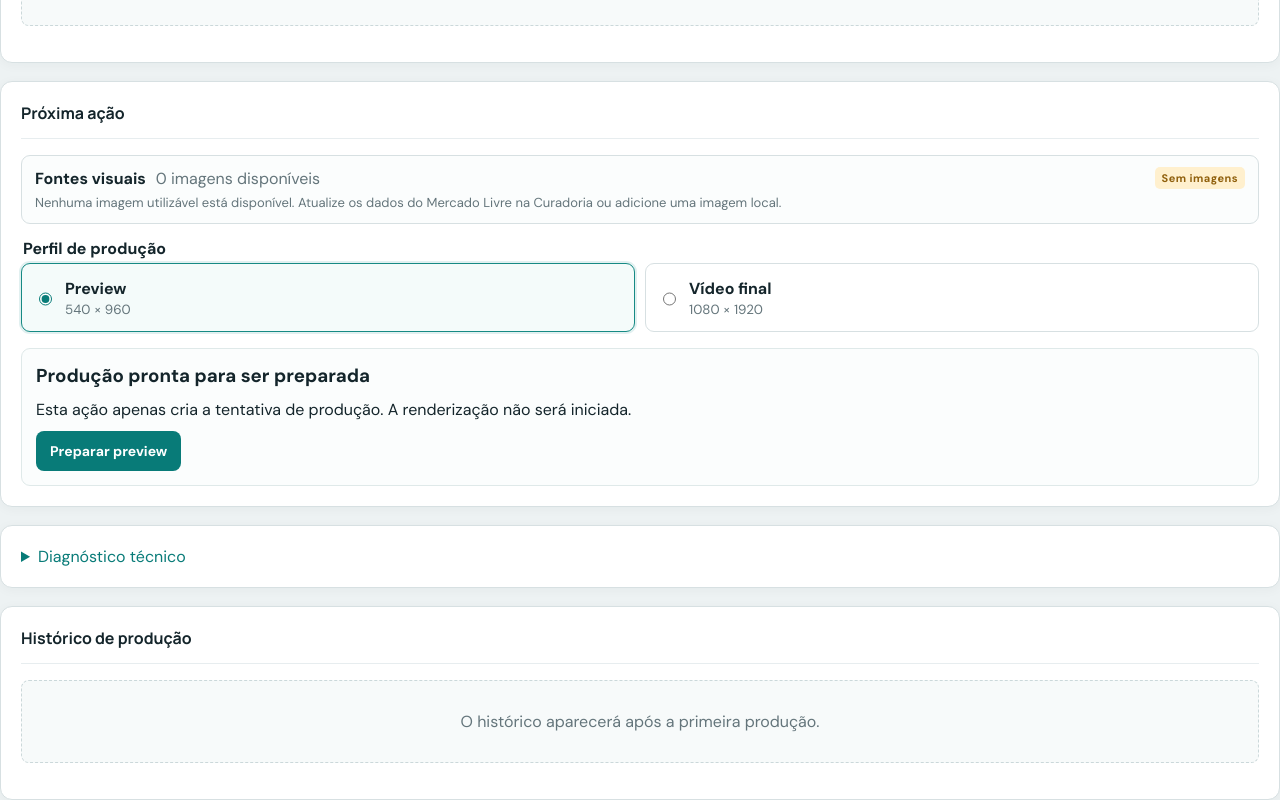
produção de mídia › falha no start mantém QUEUED explicado e permite cancelar
The image size is (1280, 800).
(page scrolled)
Click the button "Preparar preview" at (109, 451), box [36,431,181,471]
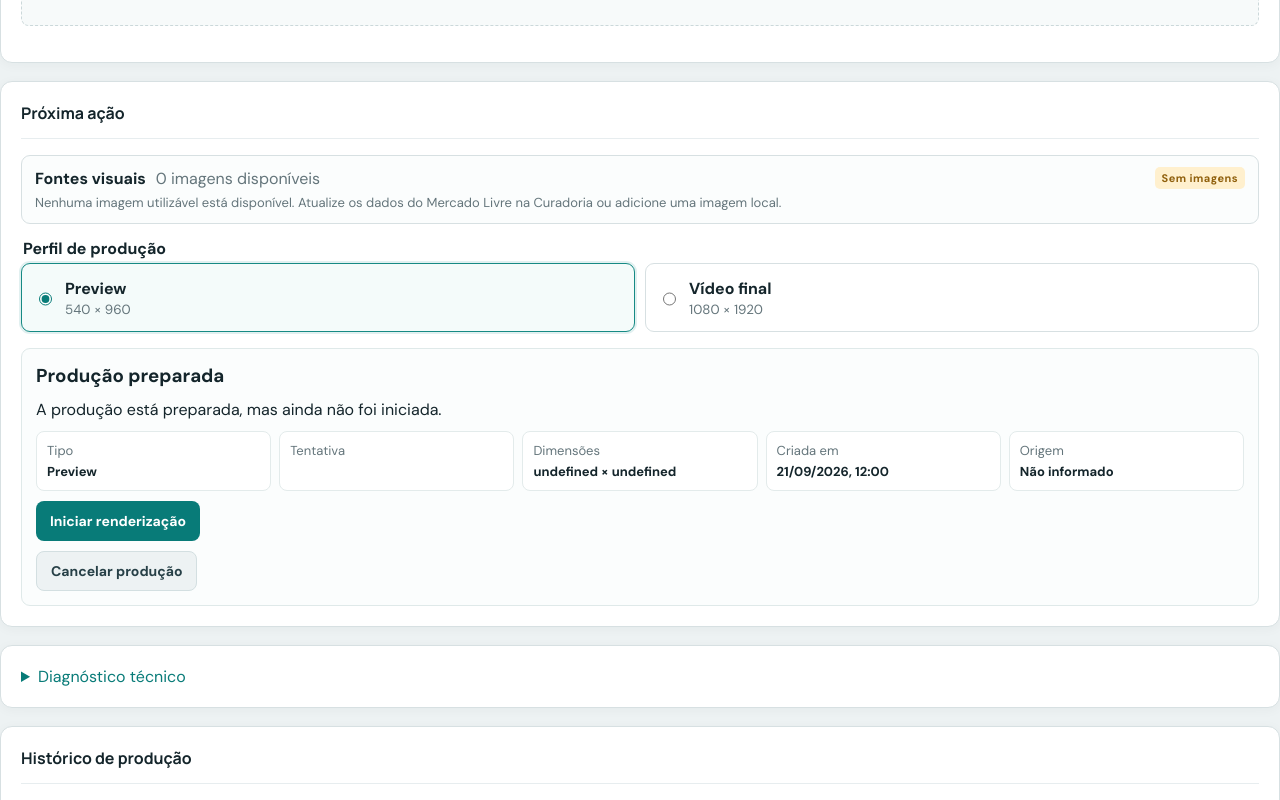
Expected: the heading "Produção preparada" is shown, [36,363,224,388]
Click the button "Iniciar renderização" at (118, 521), box [36,501,200,541]
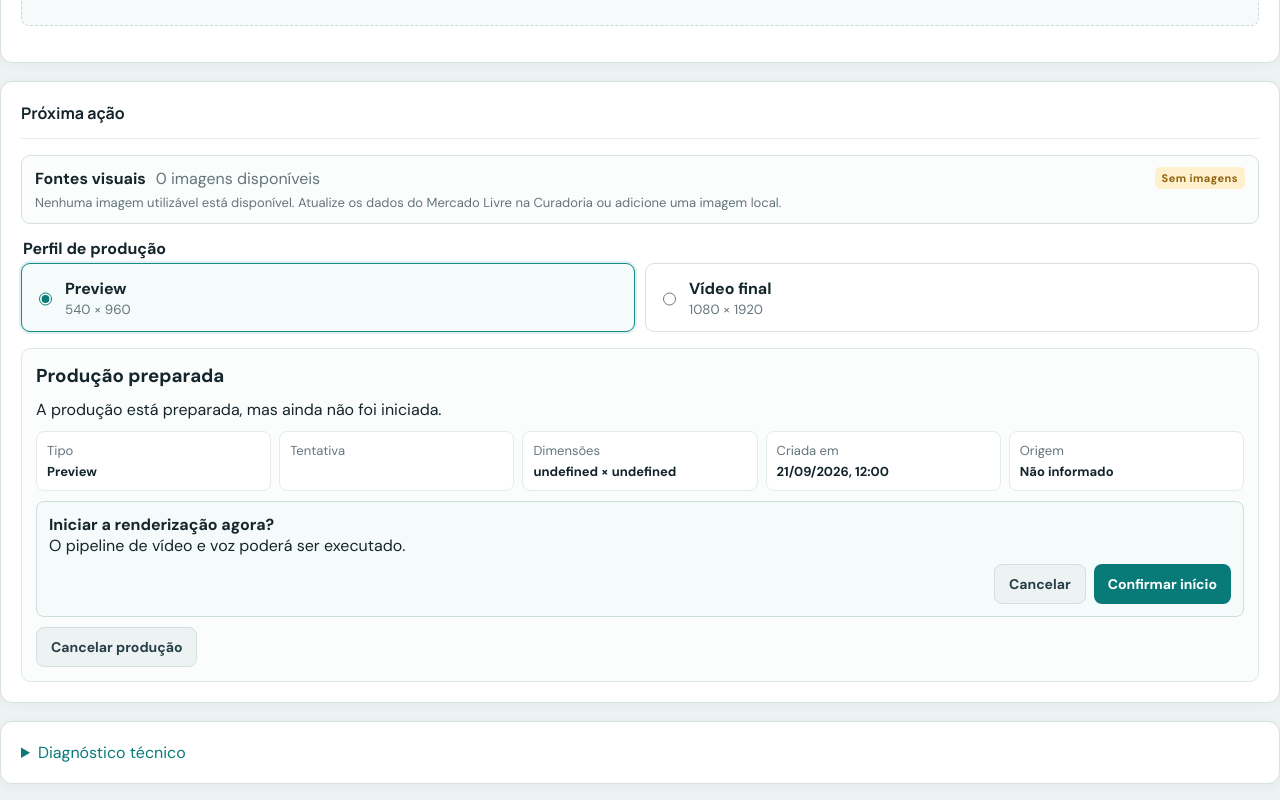
Click the button "Confirmar início" at (1162, 584), box [1094,564,1231,604]
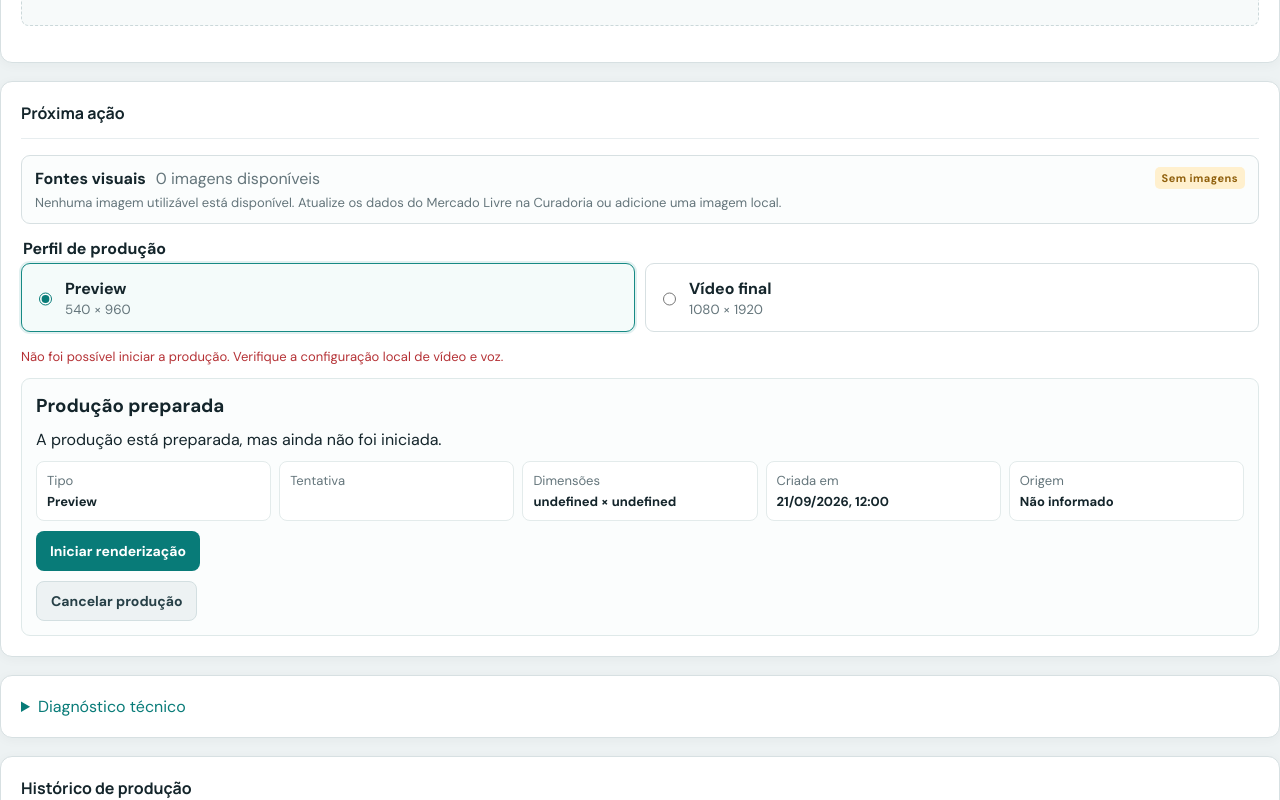
Expected: the heading "Produção preparada" is shown, [36,393,224,418]
Expected: the message shows "Não foi possível iniciar a produção. Verifique a configuração local de vídeo e voz.", [21,348,503,365]
Click the button "Cancelar produção" at (117, 601), box [36,581,197,621]
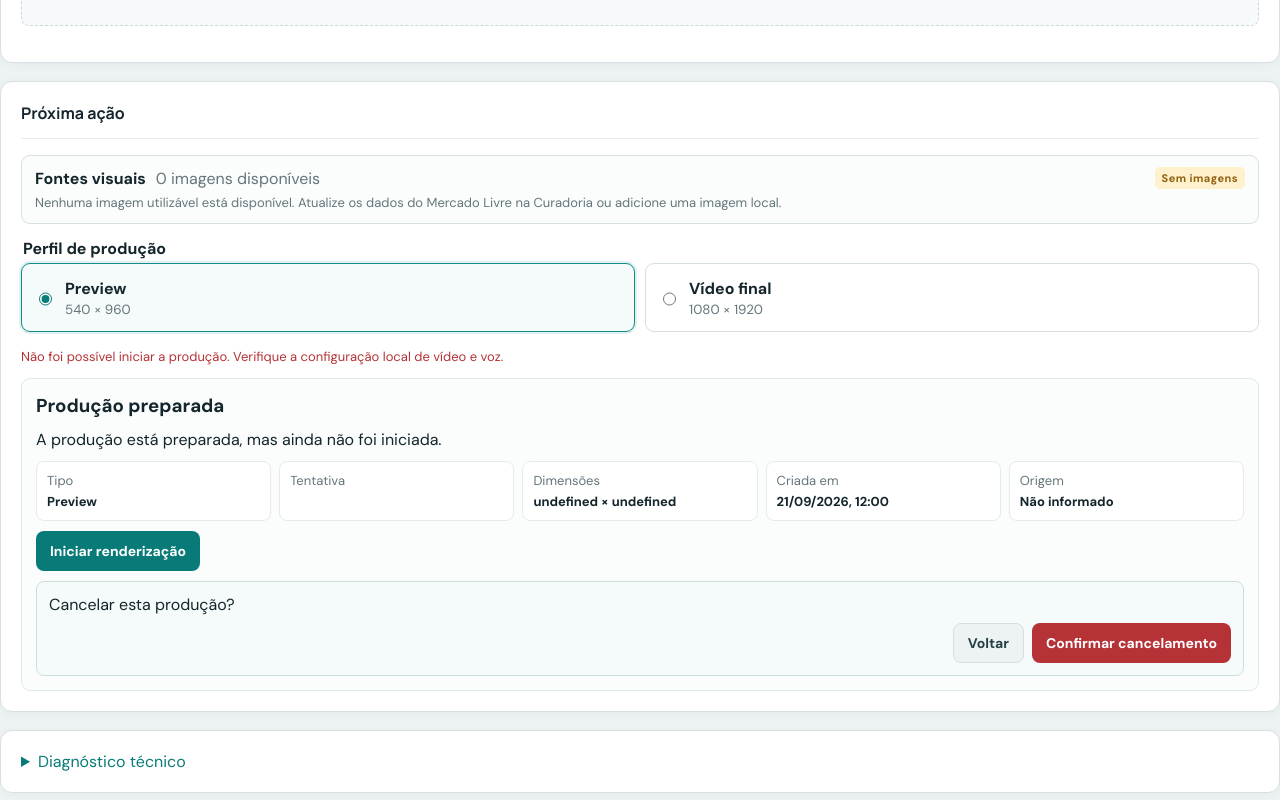
Expected: the element named "Confirmar cancelamento da produção" is shown, [36,581,1244,676]
Click the button "Confirmar cancelamento" at (1132, 643), box [1032,623,1231,663]
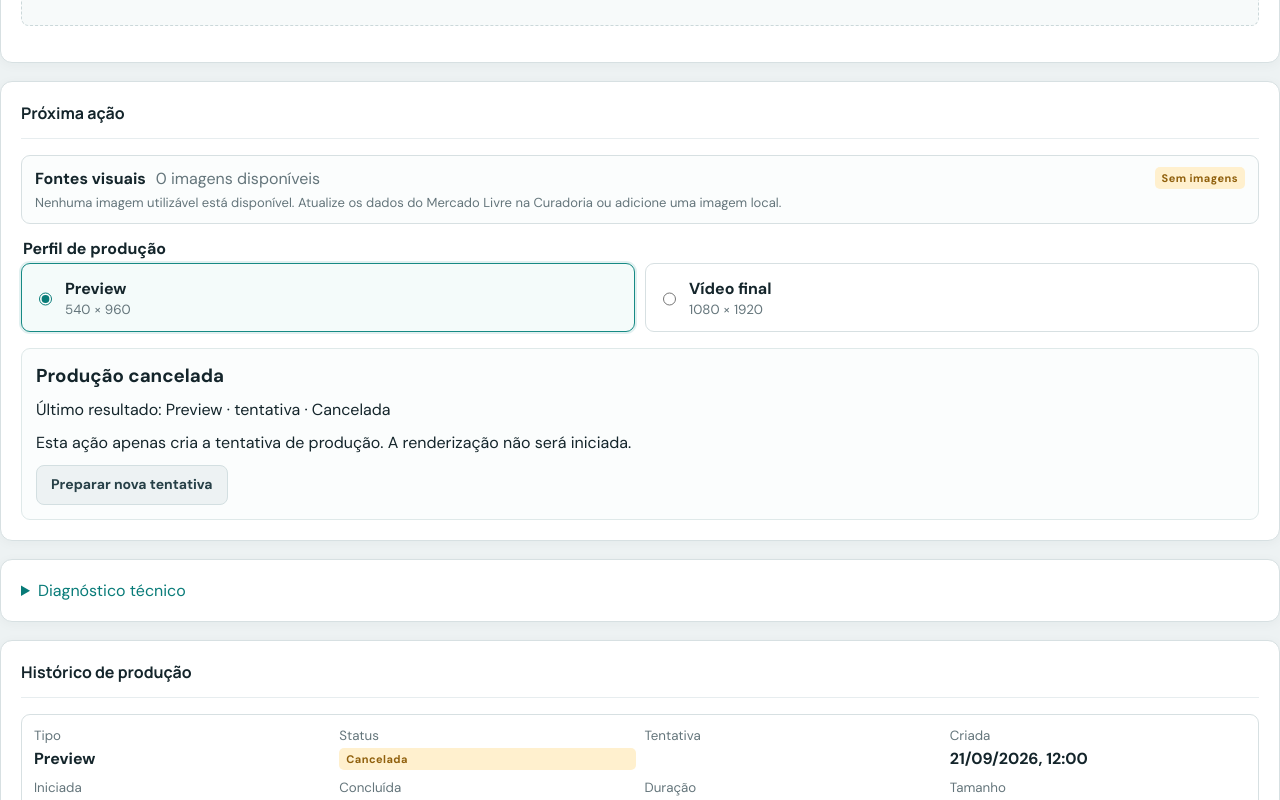
Expected: the heading "Produção cancelada" is shown, [36,363,224,388]
